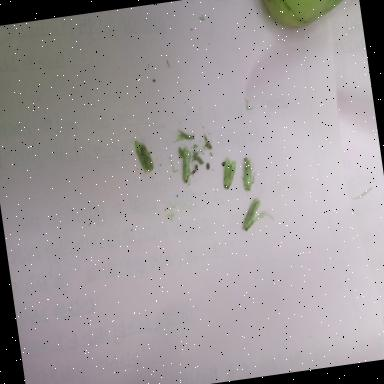pbw: (238, 197, 268, 232), (178, 146, 196, 186), (134, 138, 154, 174), (237, 156, 256, 192), (220, 157, 240, 190)
